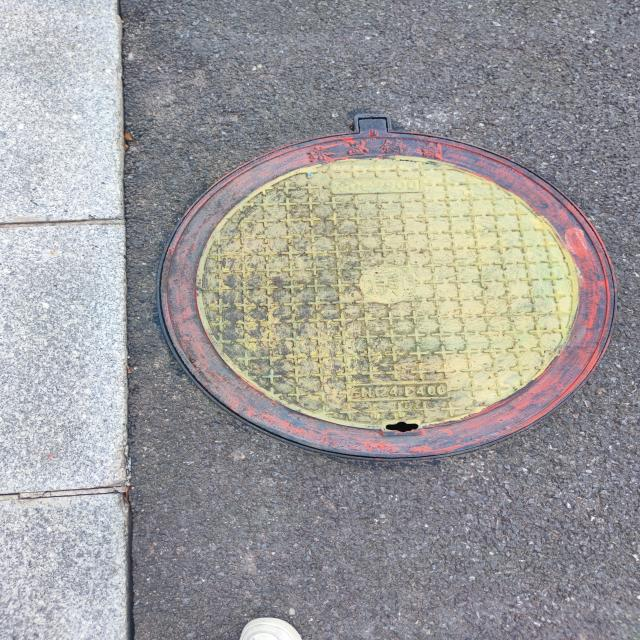Good: (148, 110, 626, 468)
